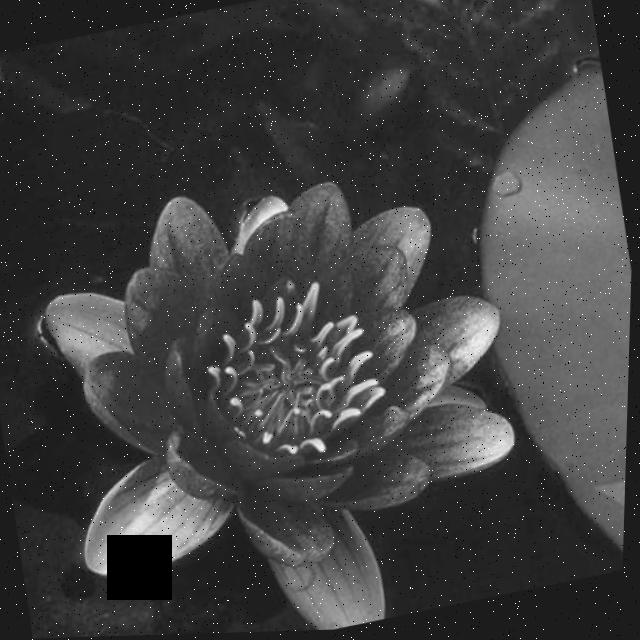rose: (0, 84, 632, 640)
